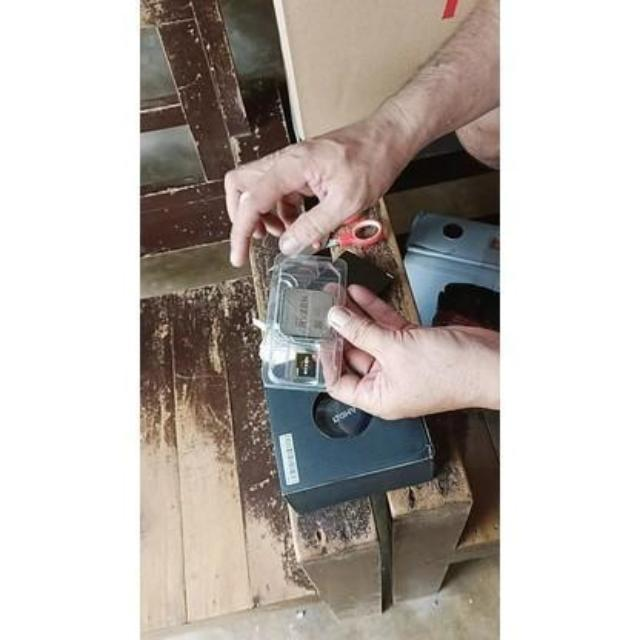CPU: (278, 286, 336, 343)
